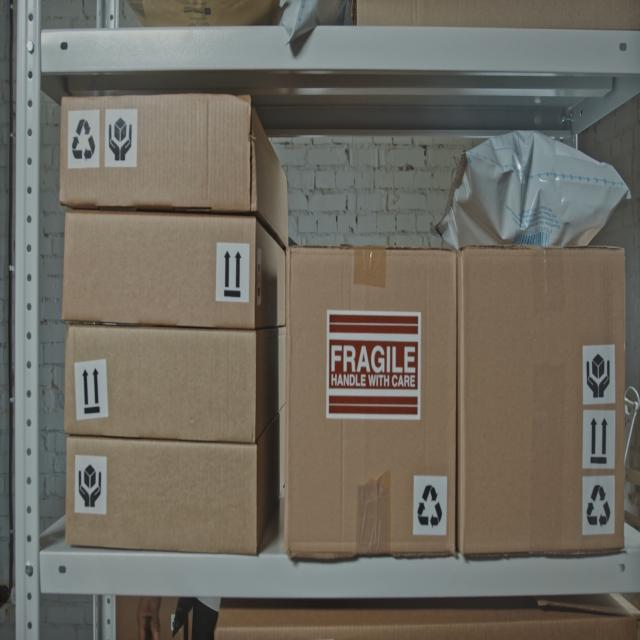counting-the-number-of-boxes: (284, 247, 456, 560), (456, 247, 625, 559), (59, 95, 288, 250), (64, 408, 285, 555), (61, 210, 286, 328), (64, 328, 284, 444)
